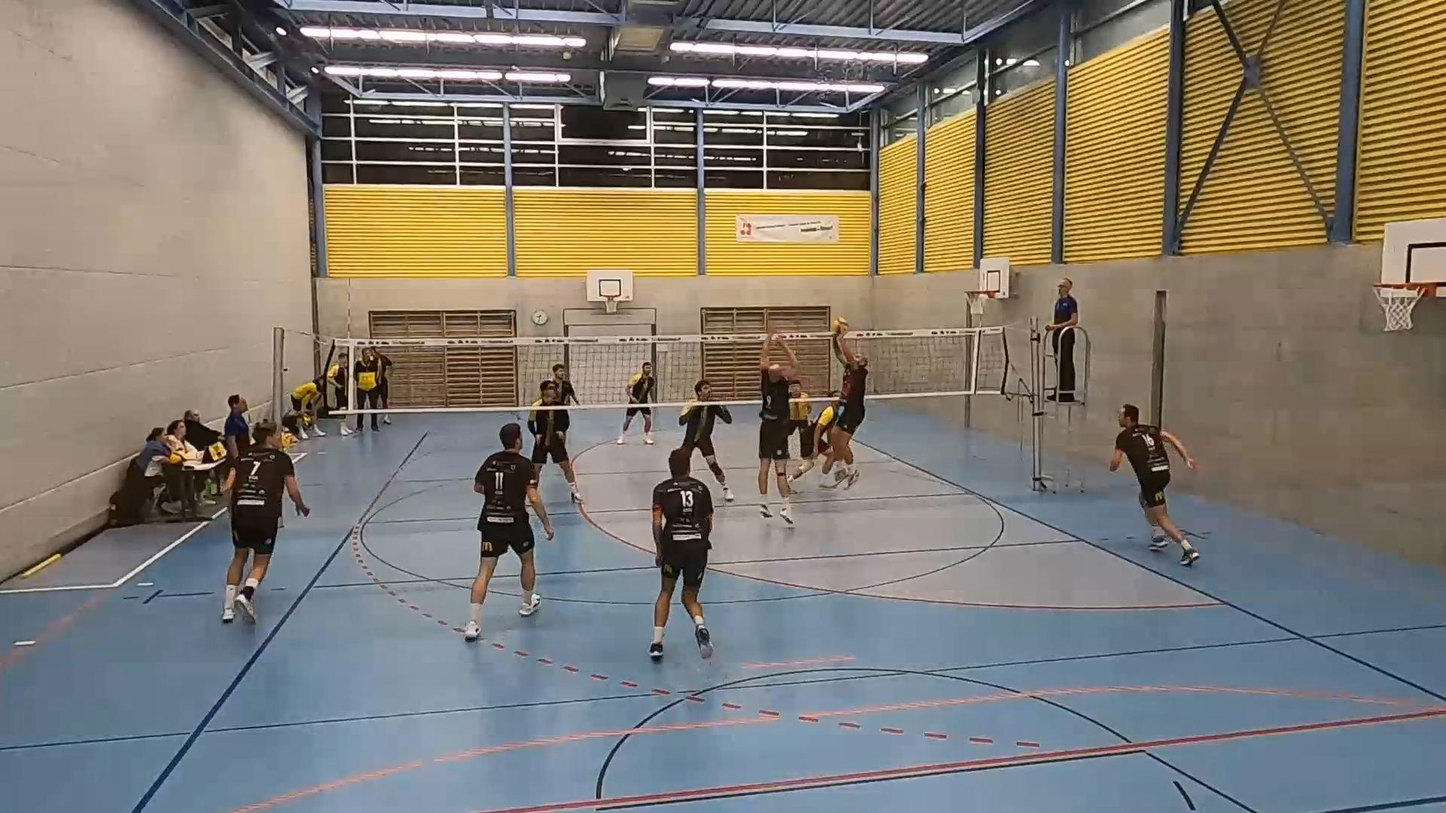alzata: (828, 336, 877, 481)
attacco: (753, 322, 807, 533)
